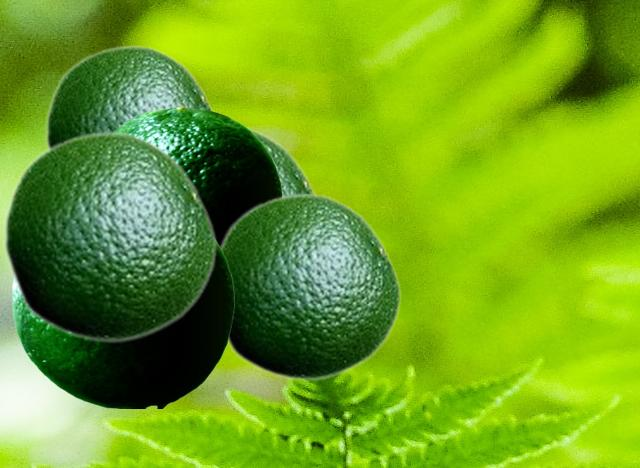calamansi: (2, 130, 217, 343), (12, 242, 233, 407), (218, 192, 401, 381), (114, 105, 281, 242), (44, 44, 216, 148), (244, 124, 319, 194)
